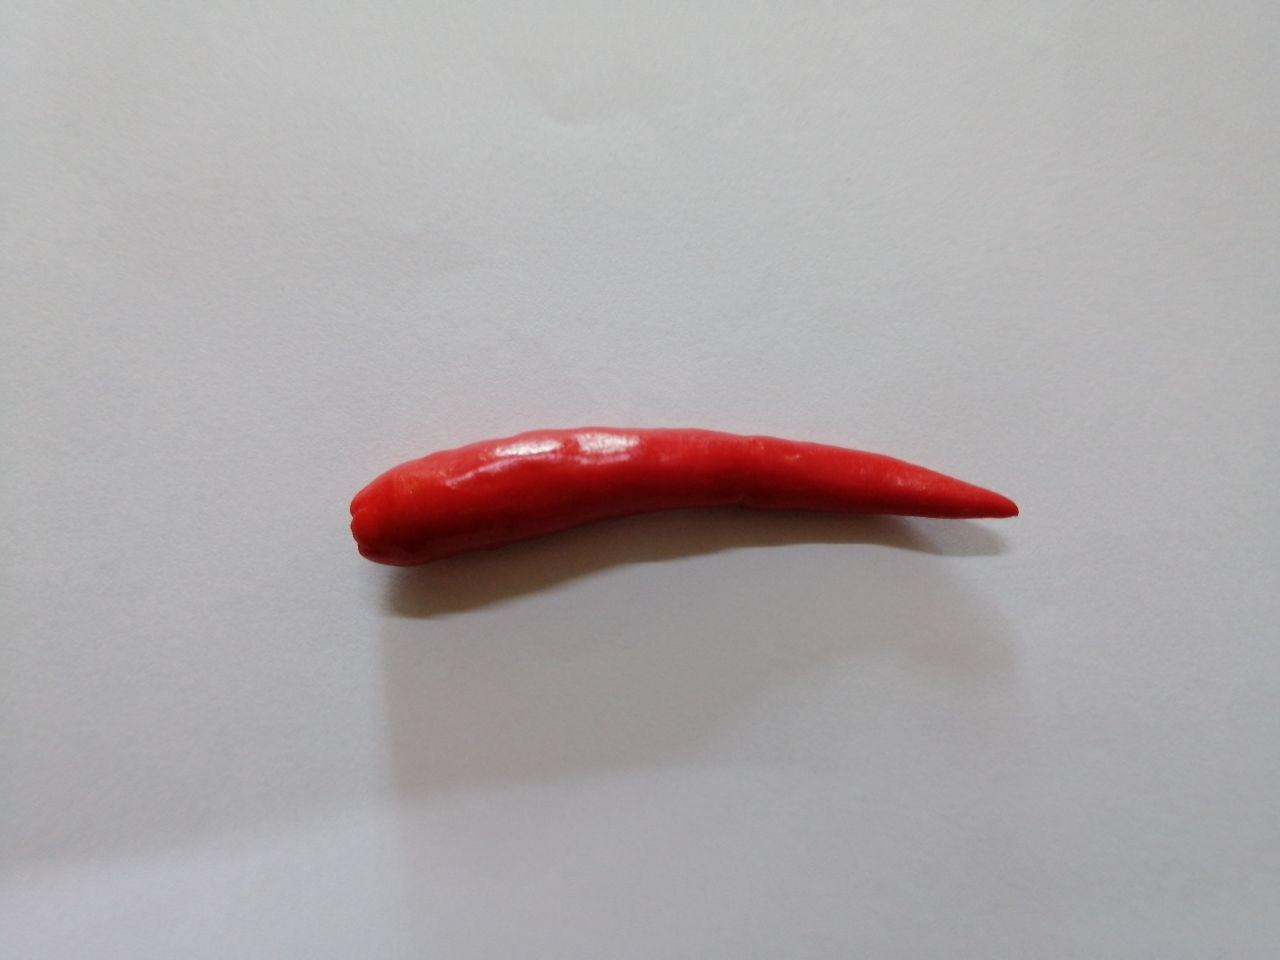lada merah: (337, 414, 1035, 602)
